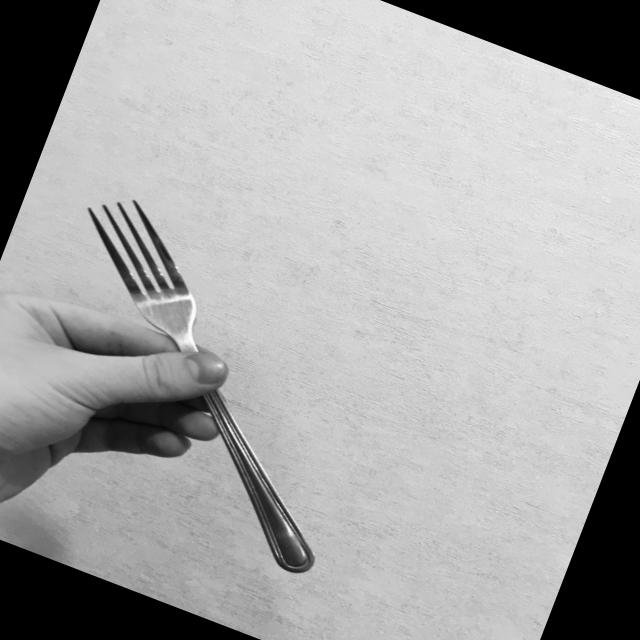fork: (0, 185, 413, 580)
